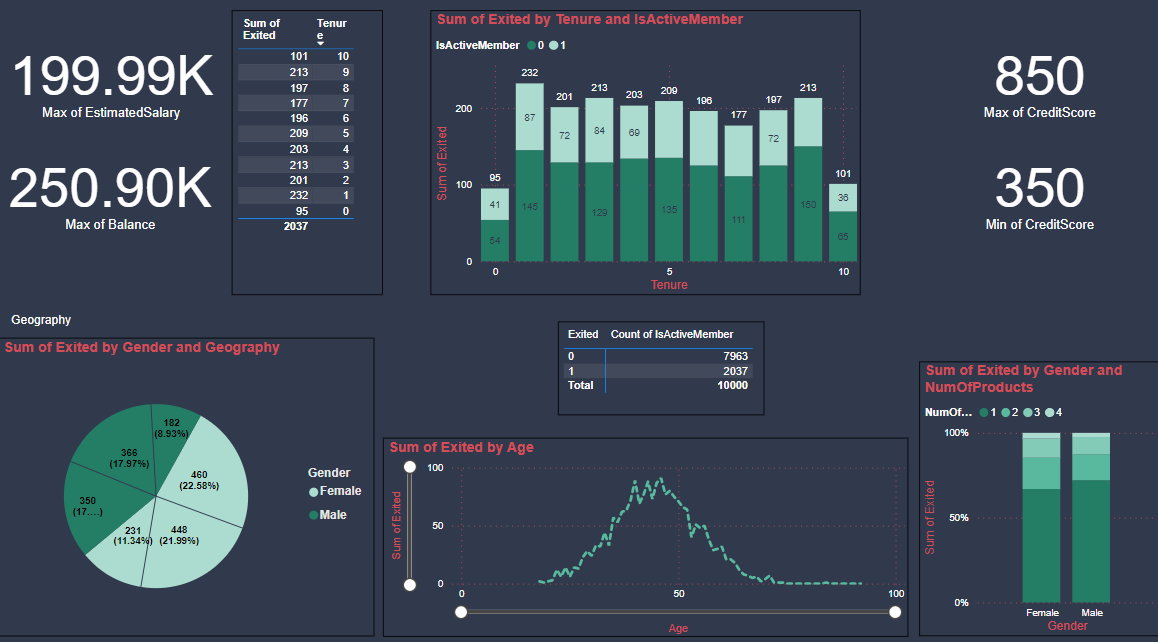

What the dashboard file says about the page in this screenshot:
{"tool":"powerbi","page":{"name":"Page 1","canvas":[1280,720],"ordinal":0},"visuals":[{"type":"pieChart","fields":{"Series":["Churn_Modelling.Geography"],"Category":["Churn_Modelling.Gender"],"Y":["Sum(Churn_Modelling.Exited)"]},"box":[0,378.5,414.3,328.9],"z":0},{"type":"slicer","fields":{"Values":["Churn_Modelling.Geography"]},"box":[1.4,346.8,414.3,27.5],"z":1000},{"type":"lineChart","fields":{"Category":["Churn_Modelling.Age"],"Y":["Sum(Churn_Modelling.Exited)"]},"box":[423.9,488.6,578.1,218.8],"z":2000},{"type":"tableEx","fields":{"Values":["Sum(Churn_Modelling.Exited)","Churn_Modelling.Tenure"]},"box":[257.4,17.9,166.5,313.8],"z":3000},{"type":"columnChart","fields":{"Y":["Sum(Churn_Modelling.Exited)"],"Category":["Churn_Modelling.Tenure"],"Series":["Churn_Modelling.IsActiveMember"]},"box":[476.2,17.9,473.5,313.8],"z":4000},{"type":"pivotTable","fields":{"Rows":["Churn_Modelling.Exited"],"Values":["CountNonNull(Churn_Modelling.IsActiveMember)"]},"box":[616.6,360.6,227.1,103.2],"z":5000},{"type":"card","fields":{"Values":["Max(Churn_Modelling.EstimatedSalary)"]},"box":[1.4,38.5,246.4,108.7],"z":6000},{"type":"card","fields":{"Values":["Max(Churn_Modelling.CreditScore)"]},"box":[1014.4,38.5,265.6,108.7],"z":7000},{"type":"card","fields":{"Values":["Min(Churn_Modelling.CreditScore)"]},"box":[1014.4,162.4,265.6,108.7],"z":8000},{"type":"hundredPercentStackedColumnChart","fields":{"Series":["Churn_Modelling.NumOfProducts"],"Y":["Sum(Churn_Modelling.Exited)"],"Category":["Churn_Modelling.Gender"]},"box":[1014.4,404.6,265.6,302.8],"z":9000},{"type":"card","fields":{"Values":["Max(Churn_Modelling.Balance)"]},"box":[0,162.4,247.7,108.7],"z":9001}]}

Visuals, with their boxes in screenshot pixels (x1, y1, x2, y2), scaled from the page's 1280x720 canvas onto the 1158x642 screenshot:
pieChart - Churn_Modelling.Geography x Churn_Modelling.Gender: bbox=(0, 337, 375, 631)
slicer - Churn_Modelling.Geography: bbox=(1, 309, 376, 334)
lineChart - Churn_Modelling.Age x Sum(Churn_Modelling.Exited): bbox=(383, 436, 906, 631)
tableEx - Sum(Churn_Modelling.Exited) x Churn_Modelling.Tenure: bbox=(233, 16, 383, 296)
columnChart - Sum(Churn_Modelling.Exited) x Churn_Modelling.Tenure: bbox=(431, 16, 859, 296)
pivotTable - Churn_Modelling.Exited x CountNonNull(Churn_Modelling.IsActiveMember): bbox=(558, 322, 763, 414)
card - Max(Churn_Modelling.EstimatedSalary): bbox=(1, 34, 224, 131)
card - Max(Churn_Modelling.CreditScore): bbox=(918, 34, 1157, 131)
card - Min(Churn_Modelling.CreditScore): bbox=(918, 145, 1157, 242)
hundredPercentStackedColumnChart - Churn_Modelling.NumOfProducts x Sum(Churn_Modelling.Exited): bbox=(918, 361, 1157, 631)
card - Max(Churn_Modelling.Balance): bbox=(0, 145, 224, 242)
